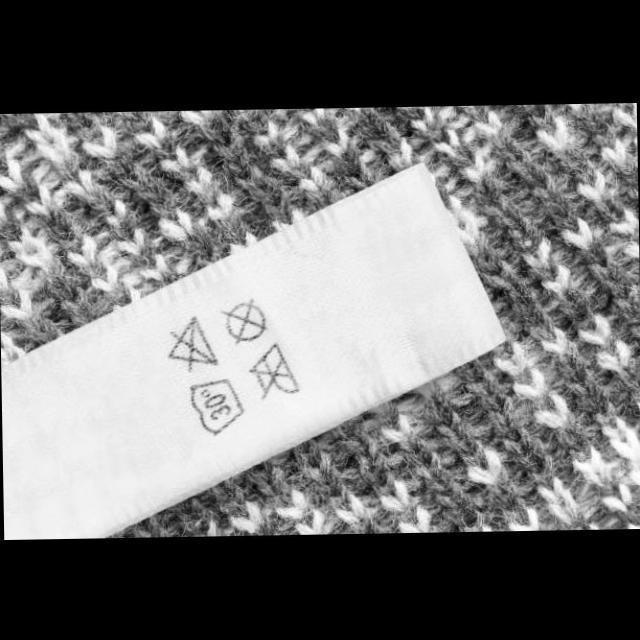30C: (185, 370, 248, 438)
DN_bleach: (163, 309, 222, 375)
DN_dry_clean: (218, 294, 270, 348)
DN_iron: (245, 337, 302, 399)
